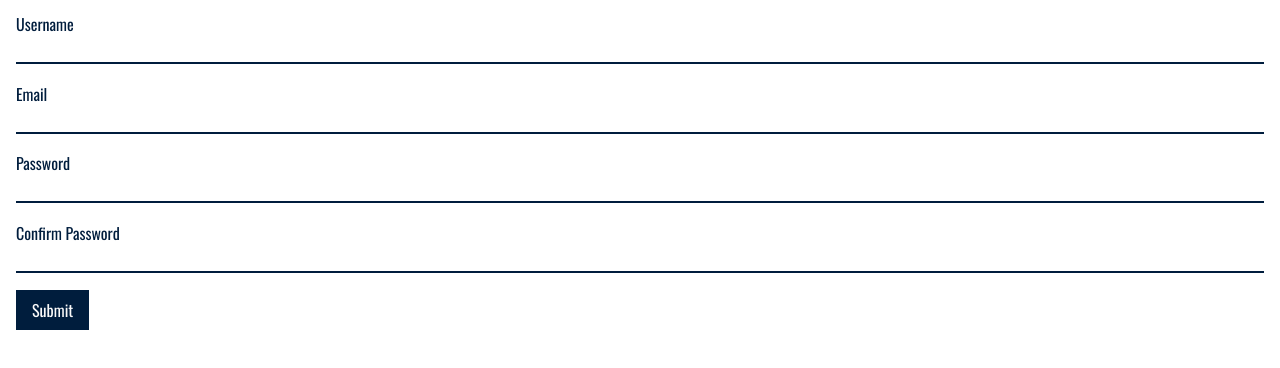
Test: Register Form › should display an error message for a username less than 6 characters long
In the field labelled "Username": (640,51) left=16, top=37, right=1264, bottom=64, type "a"
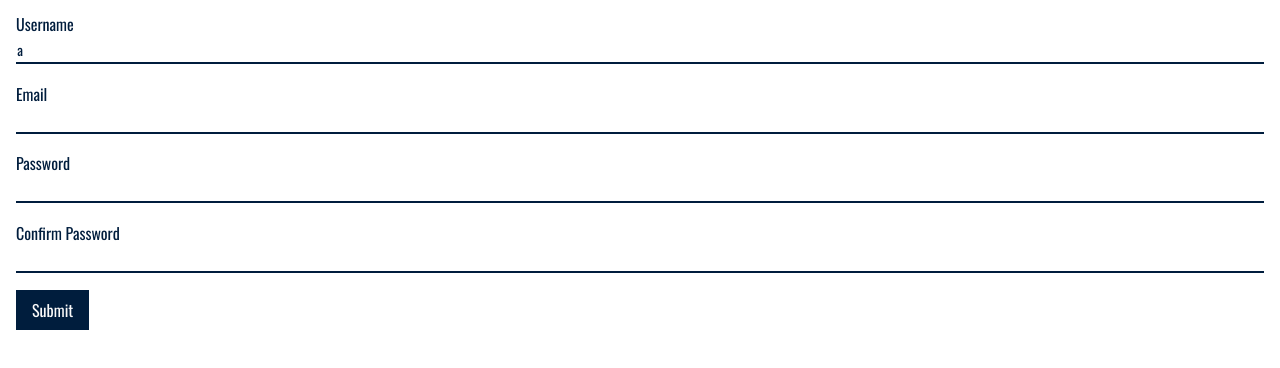
In the field labelled "Email": (640,120) left=16, top=107, right=1264, bottom=134, type "a@a.pl"
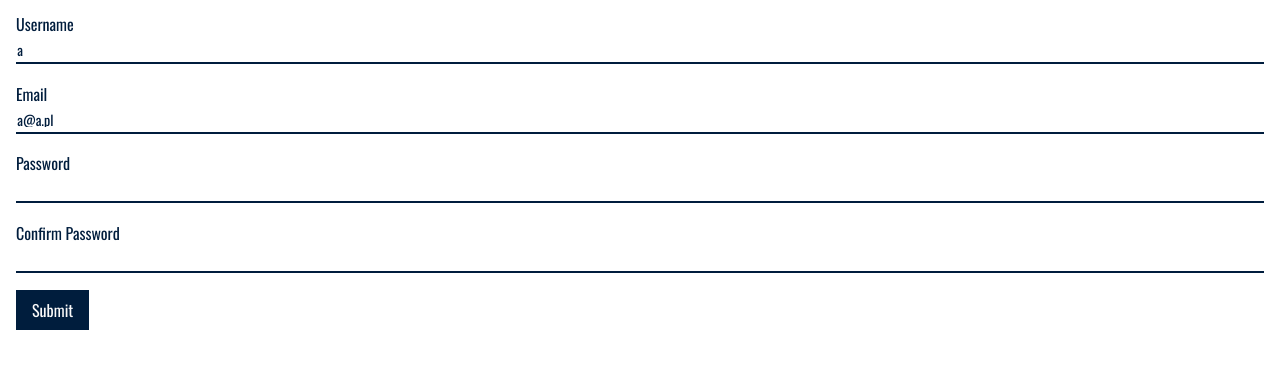
In the password field labelled "Password": (640,190) left=16, top=176, right=1264, bottom=203, type "Pa$$w0rd"
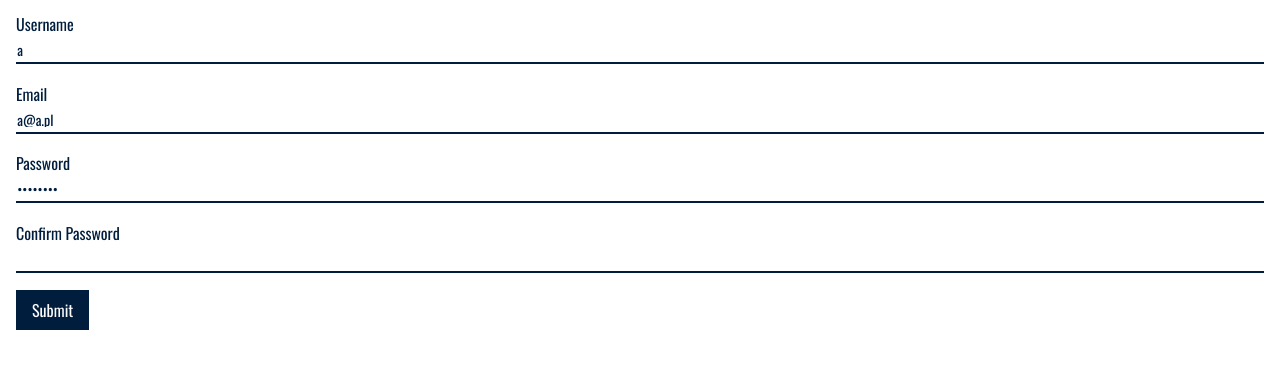
In the password field labelled "Confirm Password": (640,259) left=16, top=246, right=1264, bottom=273, type "Pa$$w0rd"
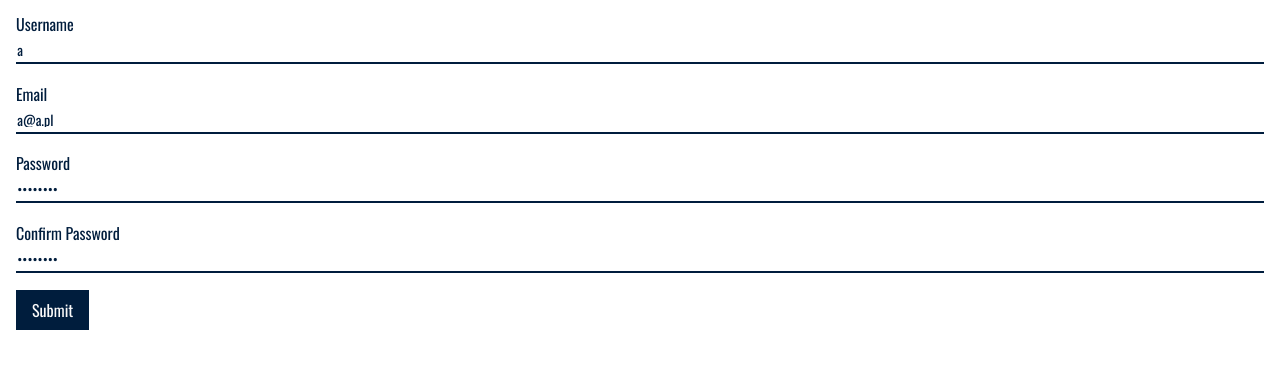
Click the button "Submit": (53,310) left=16, top=290, right=89, bottom=330
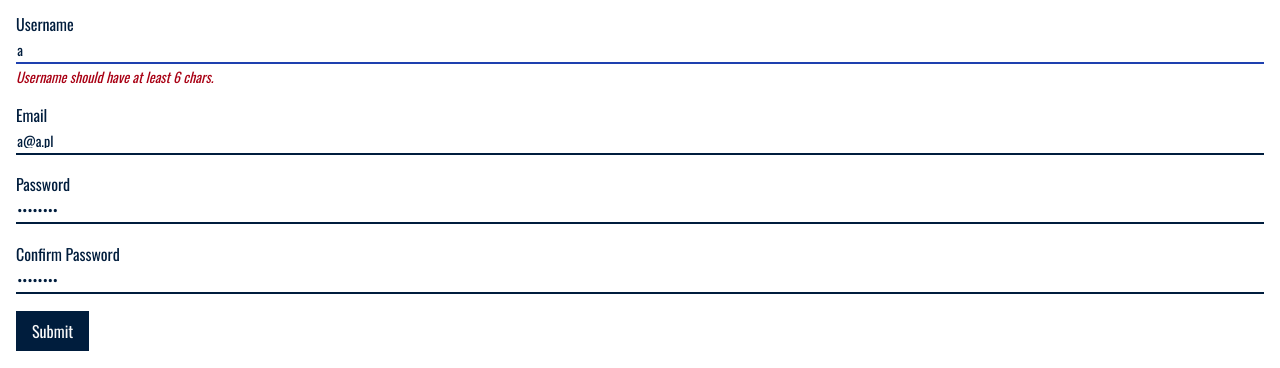
Result: the text "Username should have at least 6 chars." is shown at left=16, top=66, right=213, bottom=86
